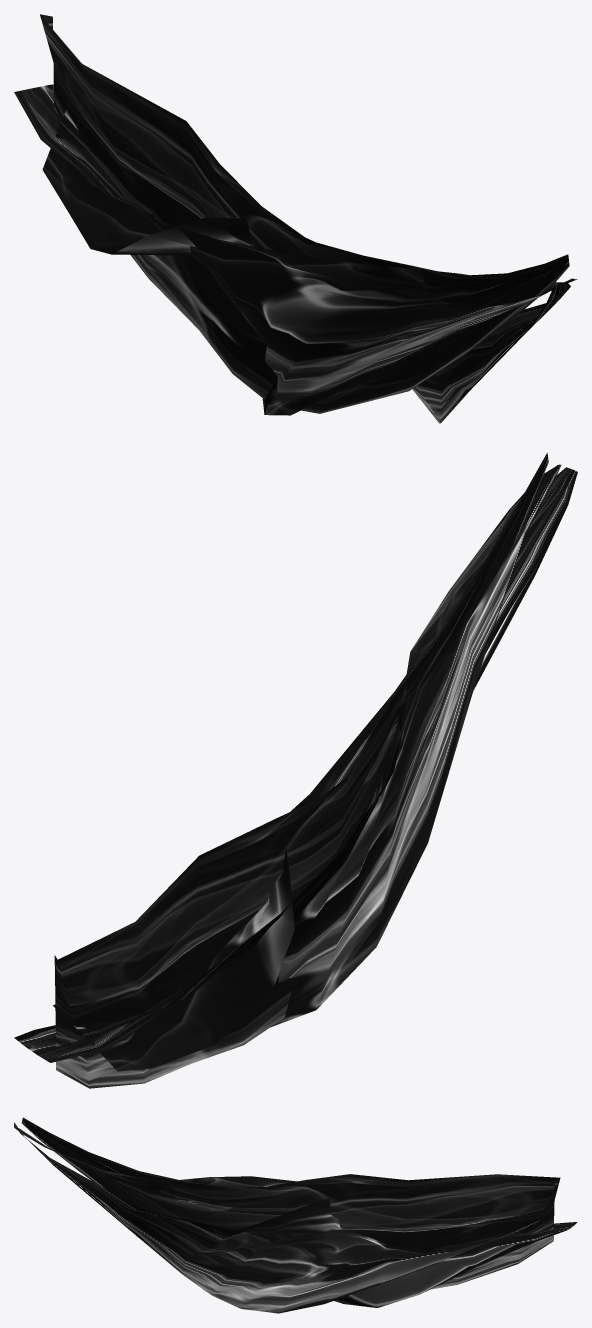
Rendered from FX_lfl_wuqi_yan02.FBX.
The picture shows the model from 3 angles, top to bottom: view 1: azimuth 30°, elevation 25°; view 2: azimuth 150°, elevation 25°; view 3: azimuth 270°, elevation 25°; orthographic projection. The views are drawn at different scales.
Parts seen in each view (by area): view 1: Plane003; view 2: Plane003; view 3: Plane003.
Boxes of the visible parts, left/top/right/bottom form: Plane003: left=14, top=14, right=577, bottom=423; Plane003: left=14, top=453, right=577, bottom=1088; Plane003: left=14, top=1117, right=577, bottom=1313.
Size of the model in its own units: 13.69 by 23.97 by 65.17.
1 material, 1 textured.
